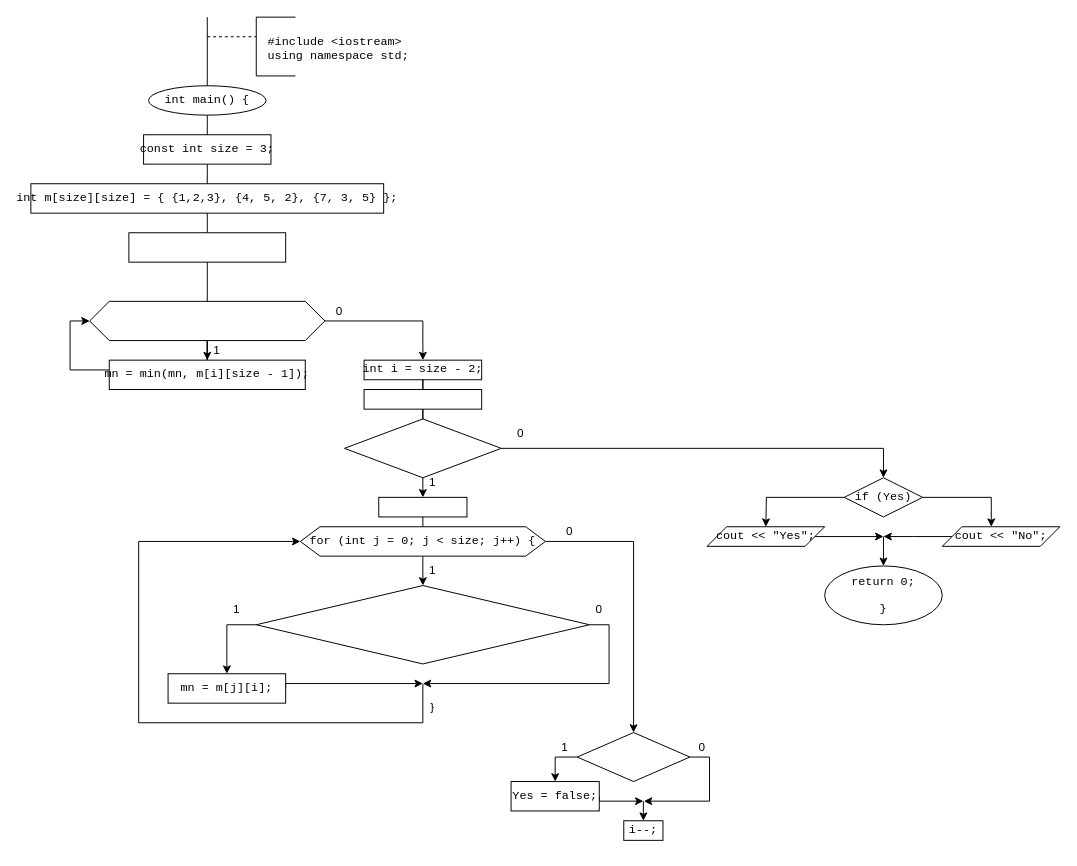
Image size: 1077x866. Some labels were removed from this diagram. Here are the shapes that lost their labels. From the top down, the centre of each, then its label:
At pixel 207 247: "int mn = m[0][size - 1];".
At pixel 207 320: "for (int i = 1; i < size; i++)".
At pixel 422 399: "bool Yes = true;".
At pixel 422 448: "while (i >= 0 && Yes) {".
At pixel 422 506: "int t = mn;".
At pixel 422 624: "if (t < m[j][i] && (mn > m[j][i] || mn == t))".
At pixel 633 757: "if (mn == t)".
